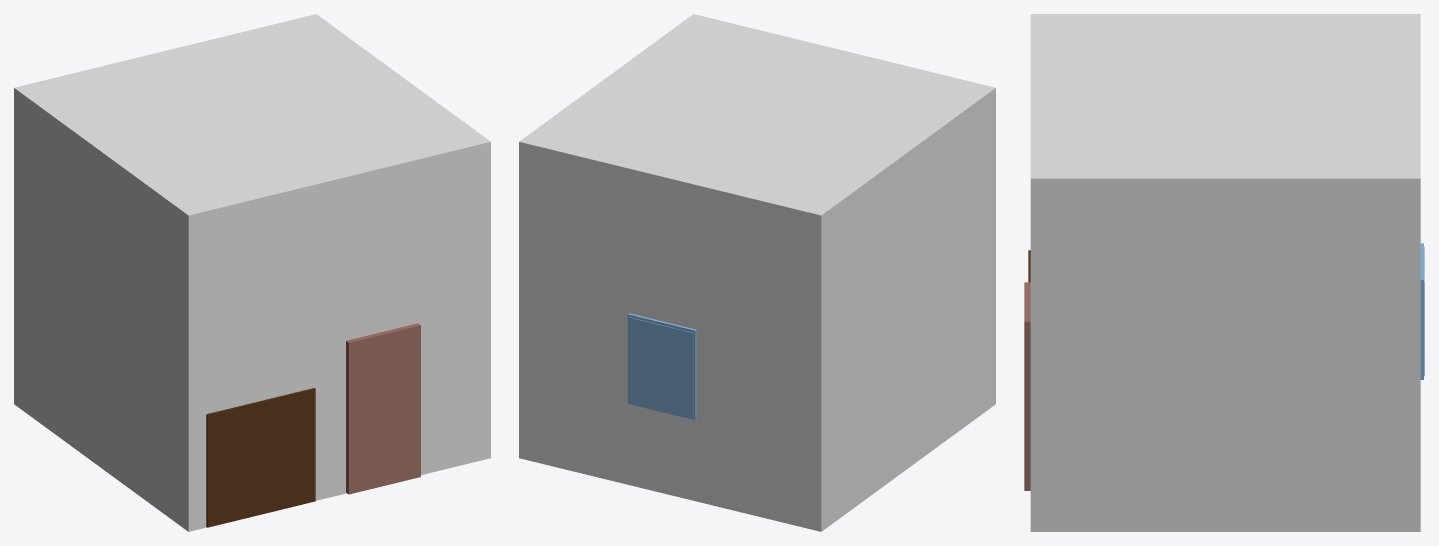
File: pes nuevo.fbx
3 renders of one model, left to right at view 1: azimuth 30°, elevation 25°; view 2: azimuth 150°, elevation 25°; view 3: azimuth 270°, elevation 25°, orthographic. The views are drawn at different scales.
Visible parts, largest first — view 1: cuarto, librero, puerta; view 2: cuarto, ventana; view 3: cuarto, puerta, ventana.
Boxes of the visible parts, bbox=[...] form: cuarto: bbox=[14, 14, 490, 531]; librero: bbox=[206, 388, 315, 527]; puerta: bbox=[346, 323, 420, 494]; cuarto: bbox=[519, 14, 995, 531]; ventana: bbox=[627, 313, 696, 419]; cuarto: bbox=[1030, 14, 1420, 531]; puerta: bbox=[1024, 282, 1030, 490]; ventana: bbox=[1420, 243, 1424, 379].
Size of the model in its own units: 1737 by 1738 by 1785.
